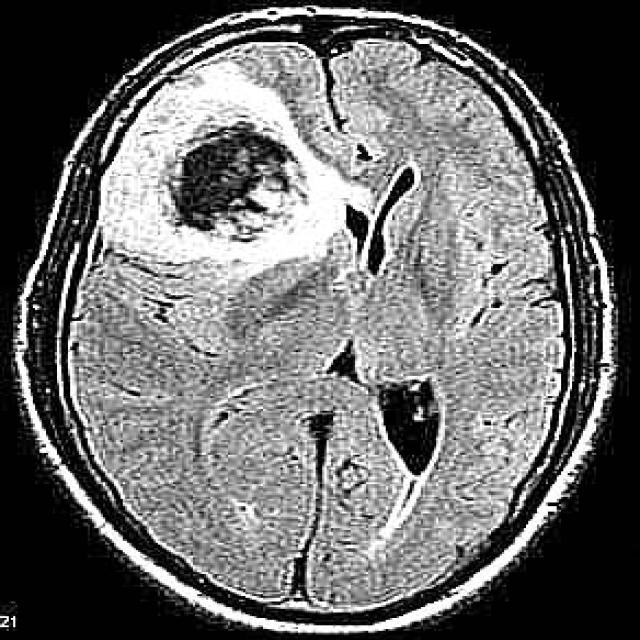Tumor-Cell: (154, 103, 322, 253)
